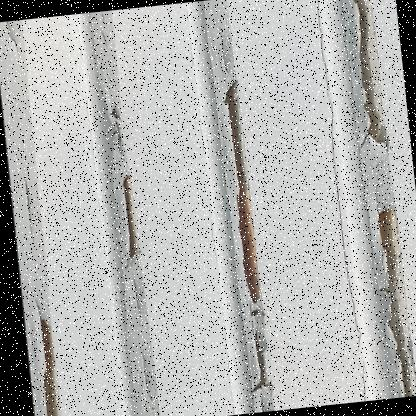Crack: (172, 0, 294, 415), (301, 0, 415, 402), (71, 8, 169, 415), (0, 17, 75, 415)
